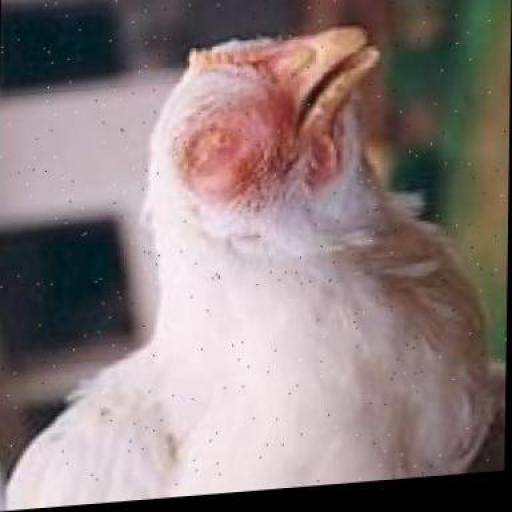disease: (150, 54, 342, 239)
